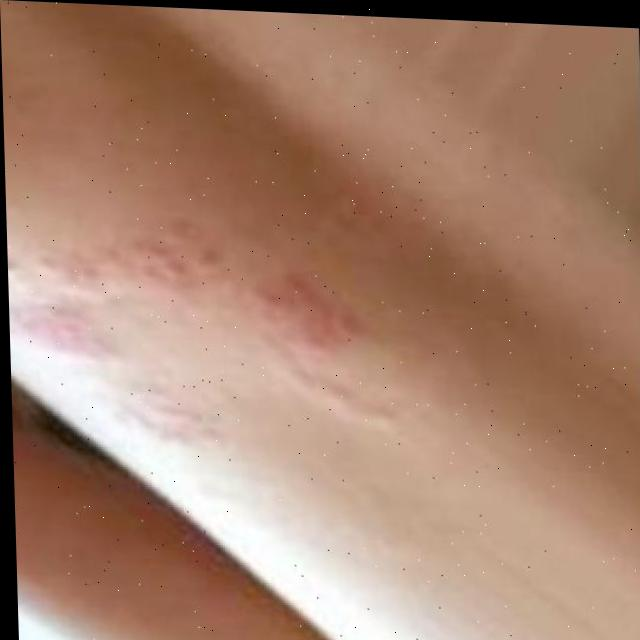Shingles: (6, 199, 346, 440)
